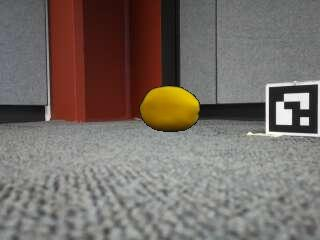lemon: (140, 85, 199, 132)
